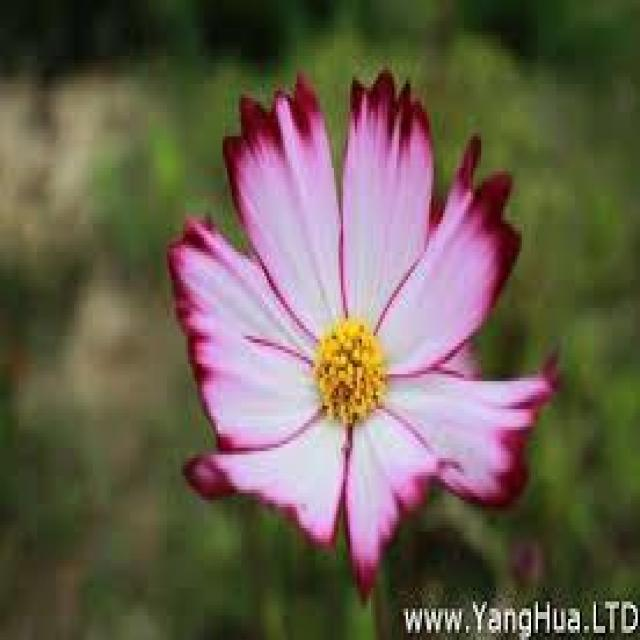organic waste: (173, 82, 544, 548)
